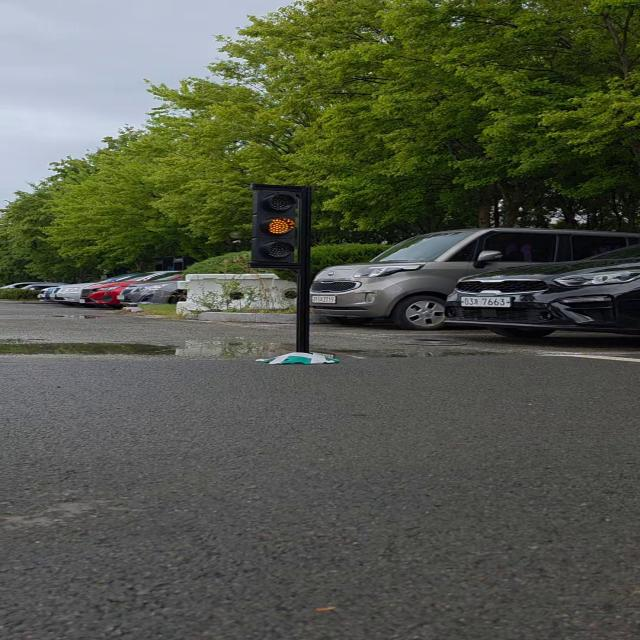yellow: (243, 180, 311, 270)
